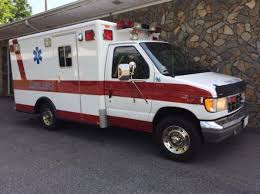special: (10, 19, 249, 164)
